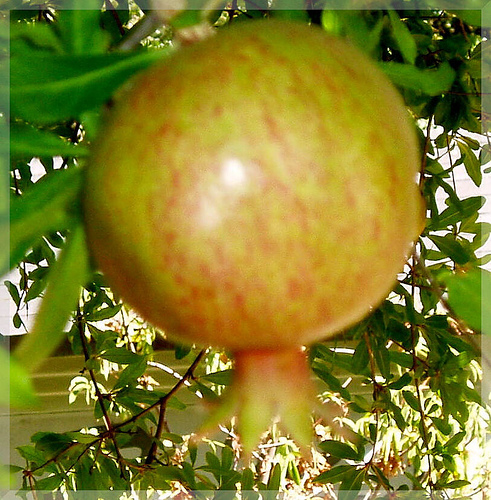pomogranate: (87, 21, 427, 475)
